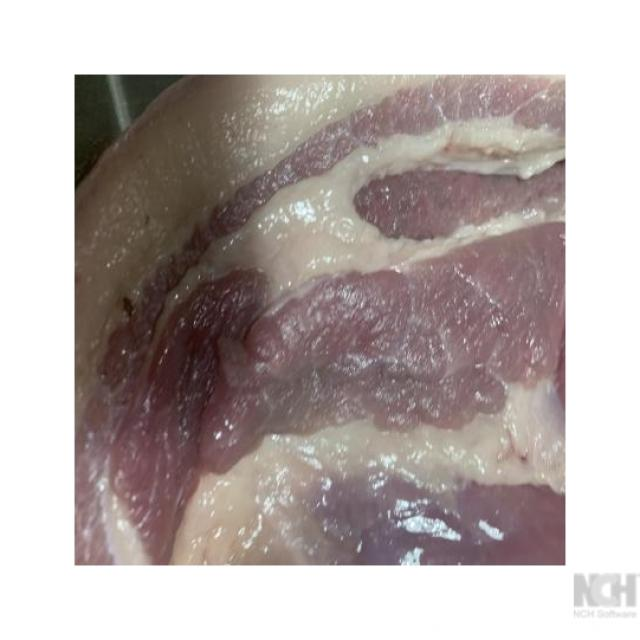rotten meat: (54, 59, 577, 575)
